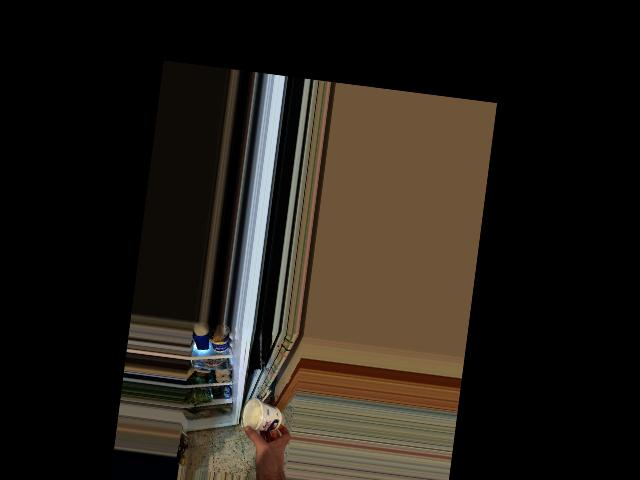cotage: (240, 398, 286, 436)
